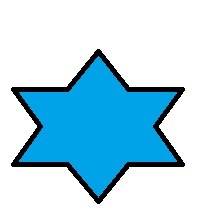star: (11, 49, 185, 204)
